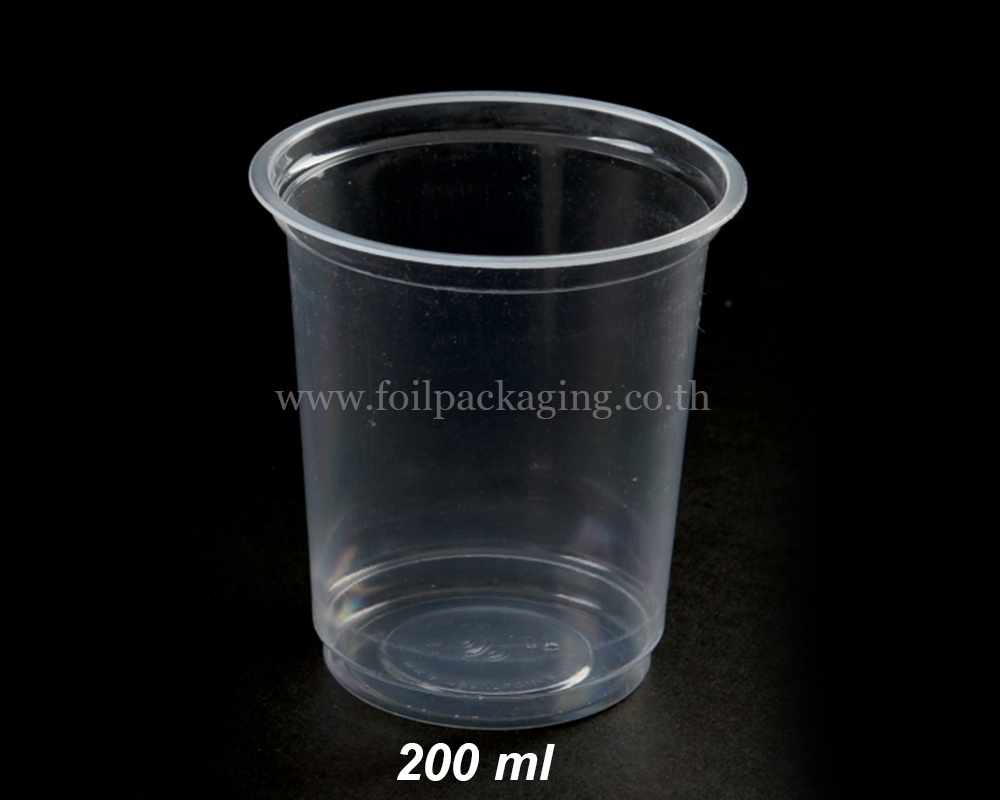plastic_bottle: (241, 87, 750, 735)
